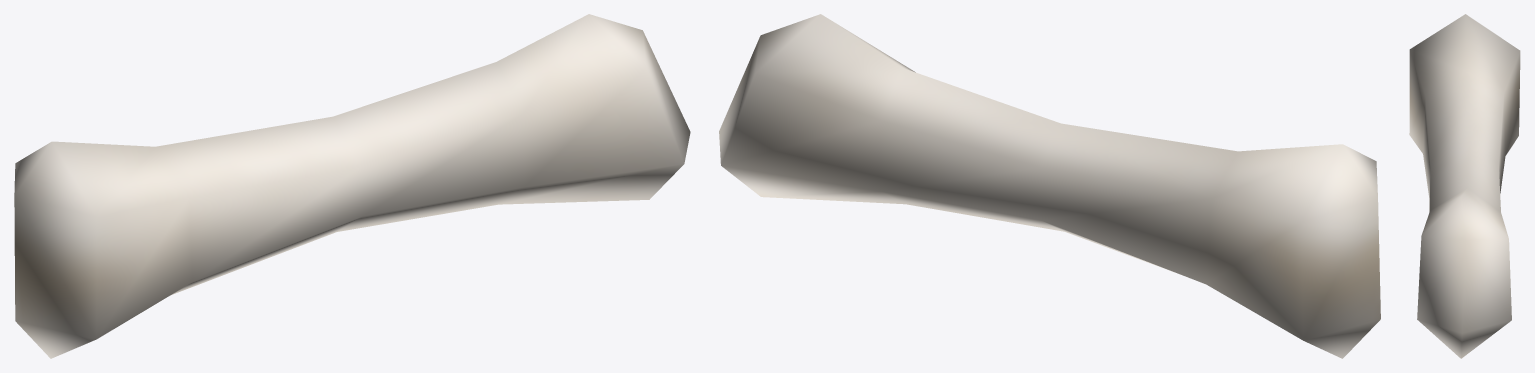
File: Uperarm.fbx
3 renders of one model, left to right at view 1: azimuth 30°, elevation 25°; view 2: azimuth 150°, elevation 25°; view 3: azimuth 270°, elevation 25°, orthographic. The views are drawn at different scales.
Visible parts, largest first — view 1: Uperarm; view 2: Uperarm; view 3: Uperarm.
Boxes of the visible parts, x1,y1,x2,y2 form: Uperarm: (14, 14, 690, 358); Uperarm: (719, 14, 1380, 358); Uperarm: (1409, 14, 1520, 358).
Size of the model in its own units: 15.85 by 4.89 by 3.22.
